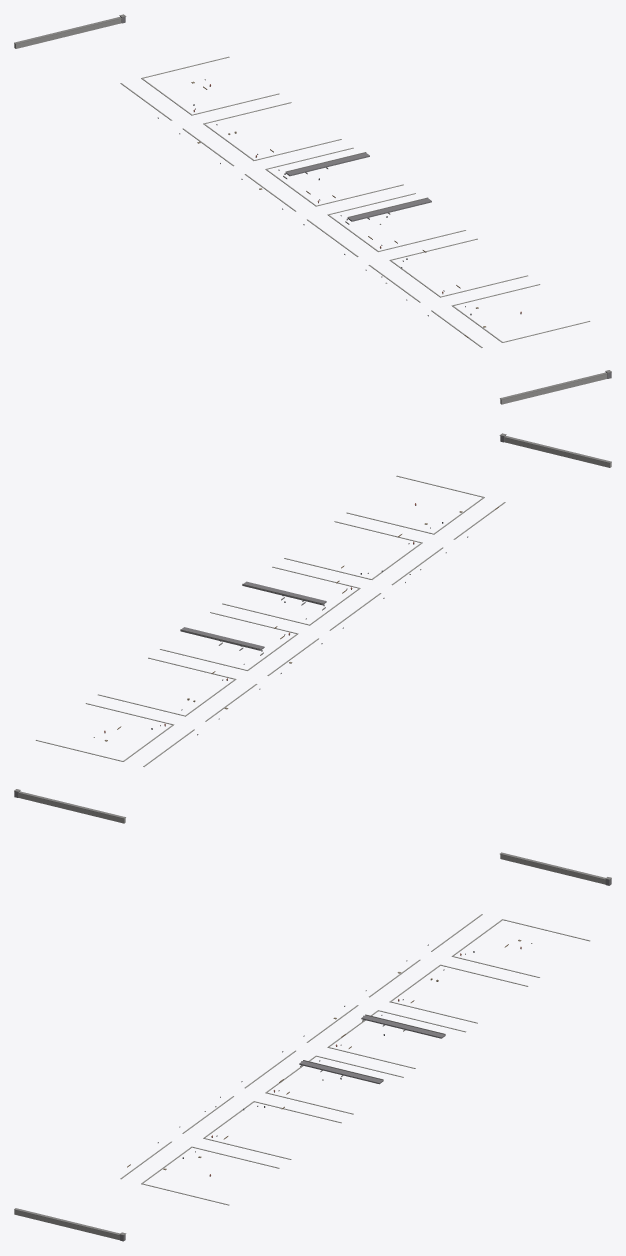
The model's file is city_cell_-3_0.glb.
3 renders of one model, top to bottom at view 1: azimuth 30°, elevation 25°; view 2: azimuth 150°, elevation 25°; view 3: azimuth 330°, elevation 25°, orthographic.
Visible parts, largest first — view 1: Cube.003; view 2: Cube.003; view 3: Cube.003.
Boxes of the visible parts, <box> form: Cube.003: <box>14,14,611,404</box>; Cube.003: <box>14,433,611,823</box>; Cube.003: <box>14,852,611,1241</box>.
Bounding box in the file's own units: 77.65 × 4.66 × 432.
